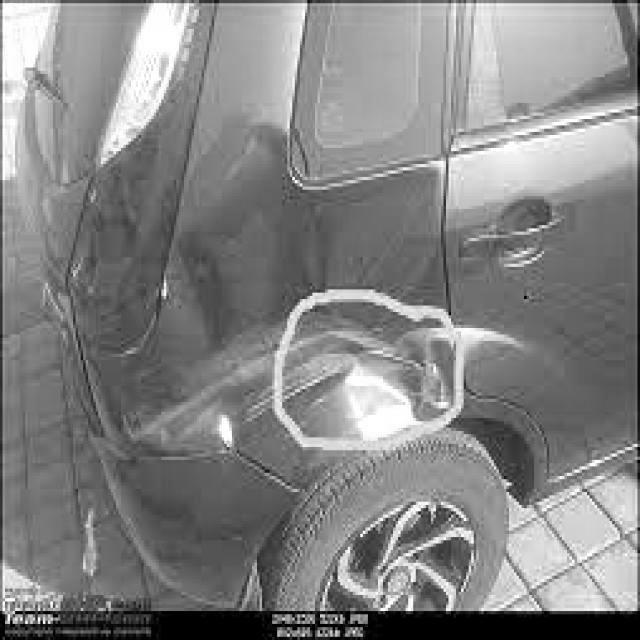quaterpanel-dent: (208, 165, 465, 576)
